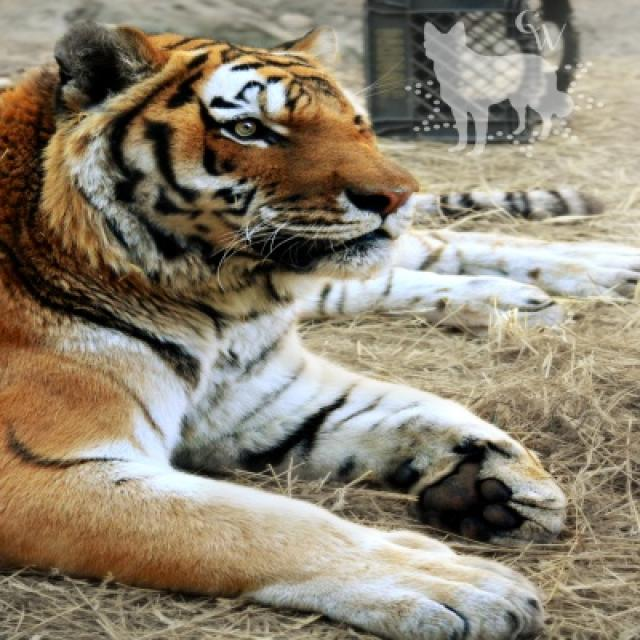Tiger: (0, 20, 567, 637)
